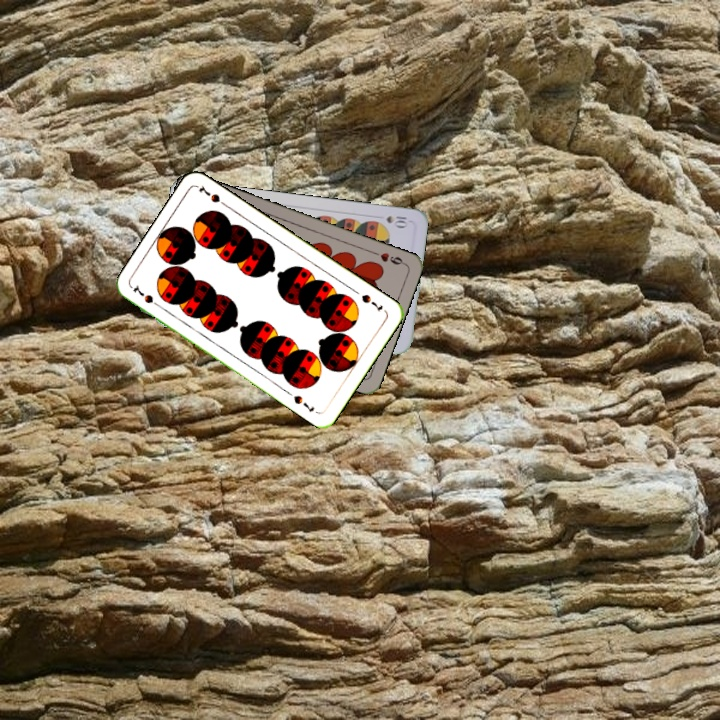H9: (368, 247, 408, 267)
S10: (382, 211, 411, 230)
S7: (129, 281, 165, 311), (357, 290, 385, 314)
